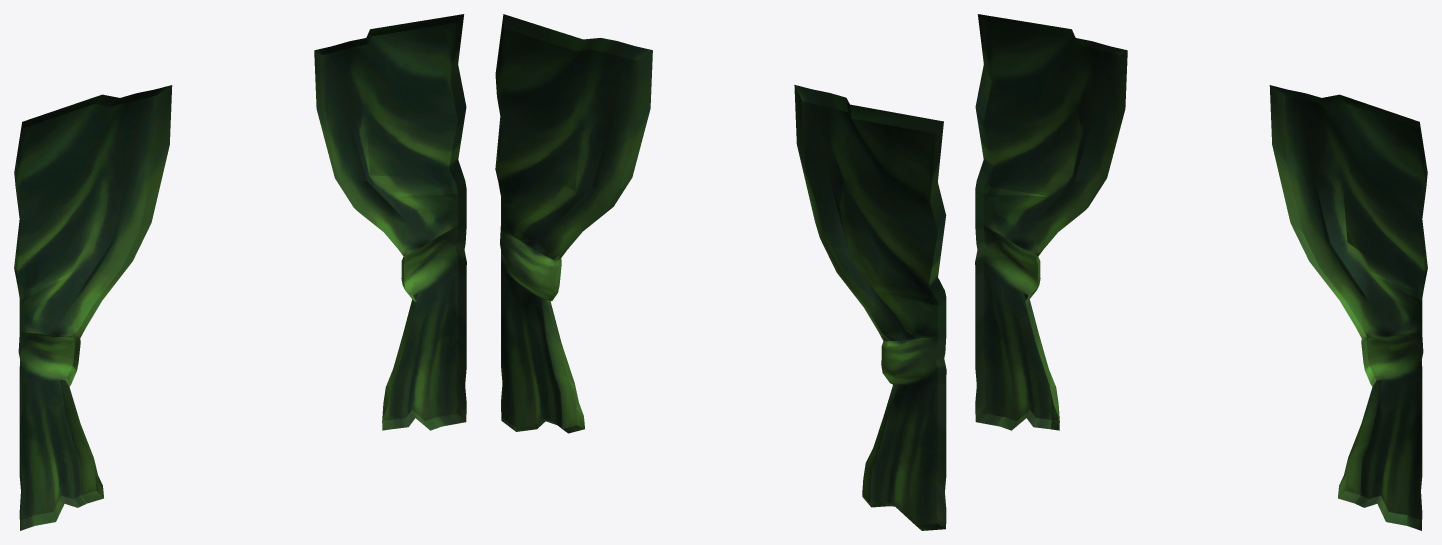
The model's file is shtory.FBX.
The picture shows the model from 3 angles, left to right: view 1: azimuth 30°, elevation 25°; view 2: azimuth 150°, elevation 25°; view 3: azimuth 330°, elevation 25°; orthographic projection.
Parts seen in each view (by area): view 1: Mesh_0055; view 2: Mesh_0055; view 3: Mesh_0055.
Boxes of the visible parts, bbox=[...] form: Mesh_0055: bbox=[14, 14, 466, 530]; Mesh_0055: bbox=[495, 14, 946, 530]; Mesh_0055: bbox=[975, 14, 1427, 530].
Bounding box in the file's own units: 1325 × 1168 × 57.48.
